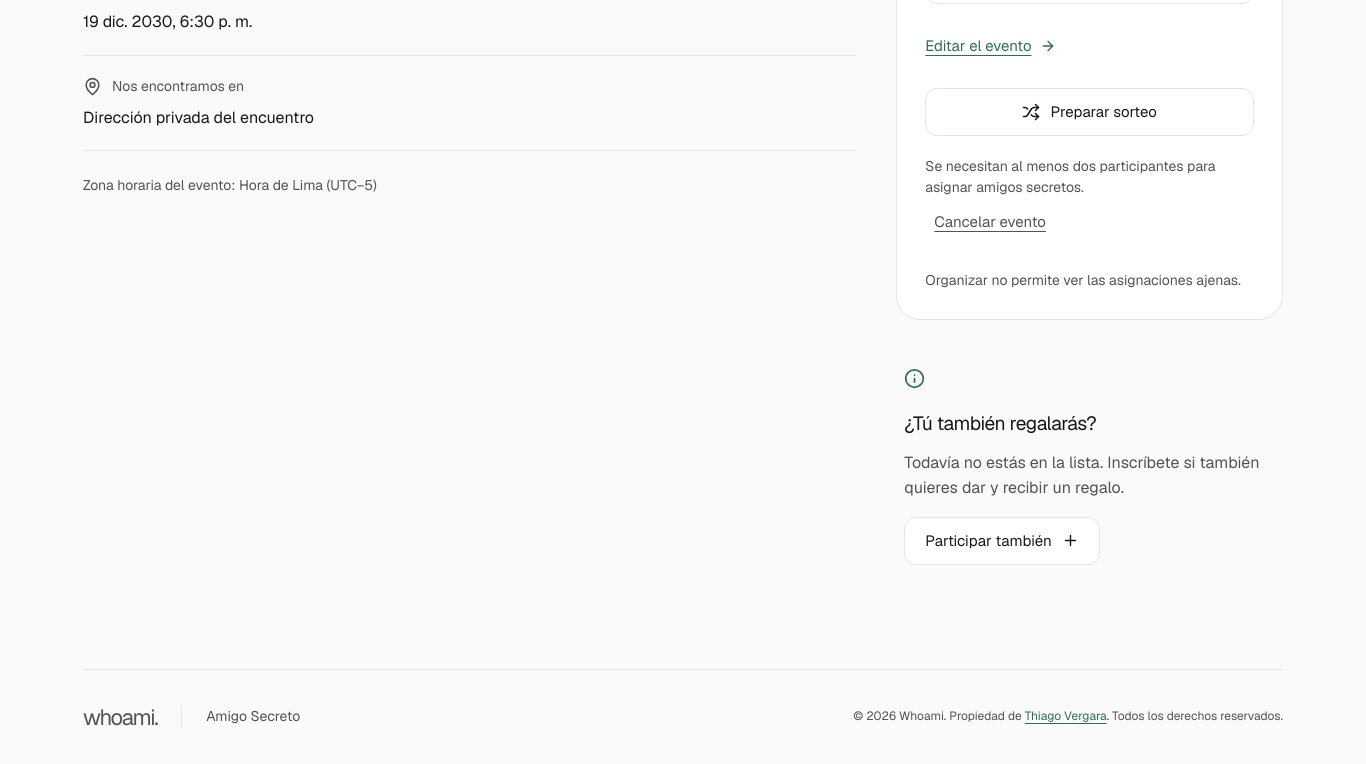
Test: Organizar y participar › crear organización no inscribe al organizador; participar es una operación explícita
(page scrolled)
Expected: the link "Mis deseos" is not shown
What coordinates should you click on to do the following:
click the button "Participar también"
I would click on:
 (1002, 541)
Its box is [904,517,1100,565].
(page scrolled)
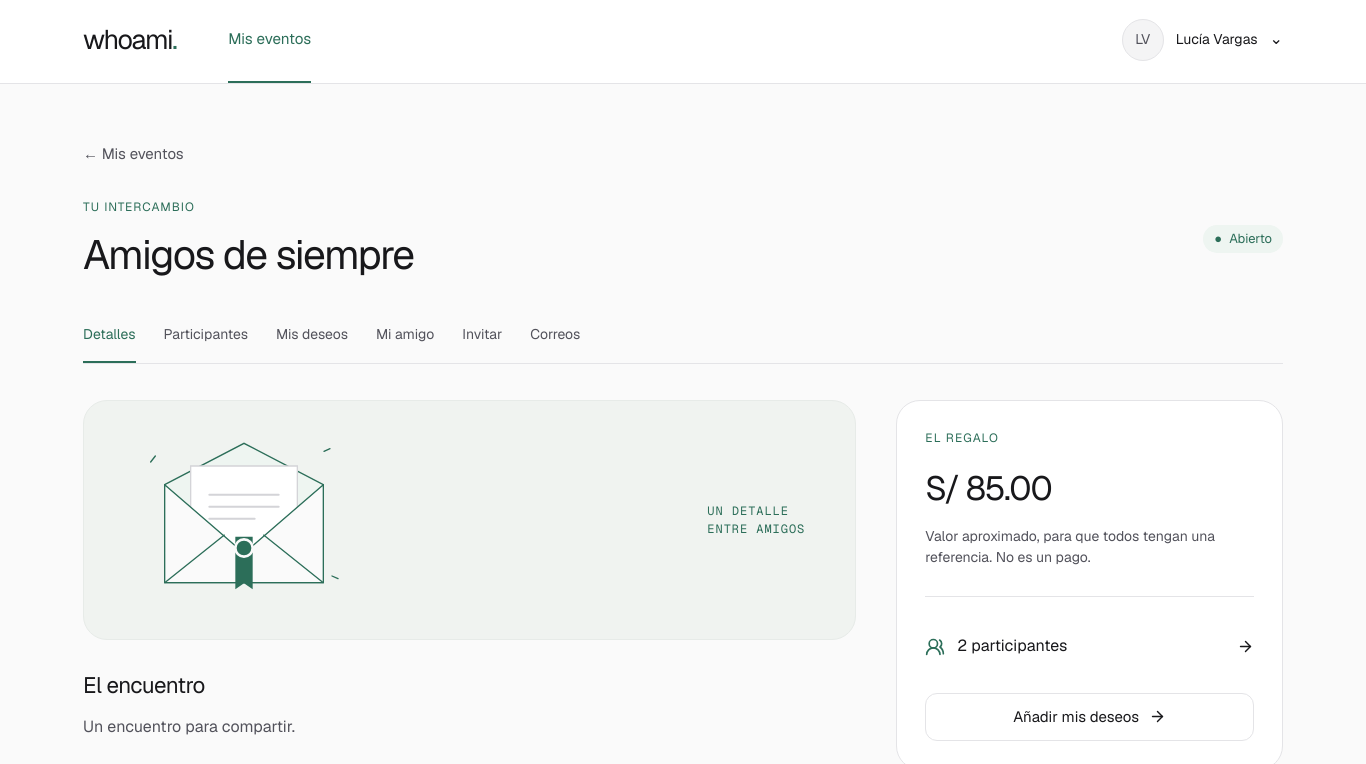
Now the button "Participar también" is gone
Now the link "Mis deseos" is shown, box [276,324,348,342]
